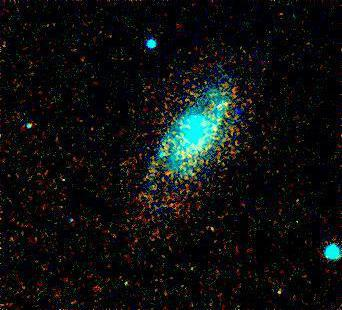star: (224, 99, 254, 129)
